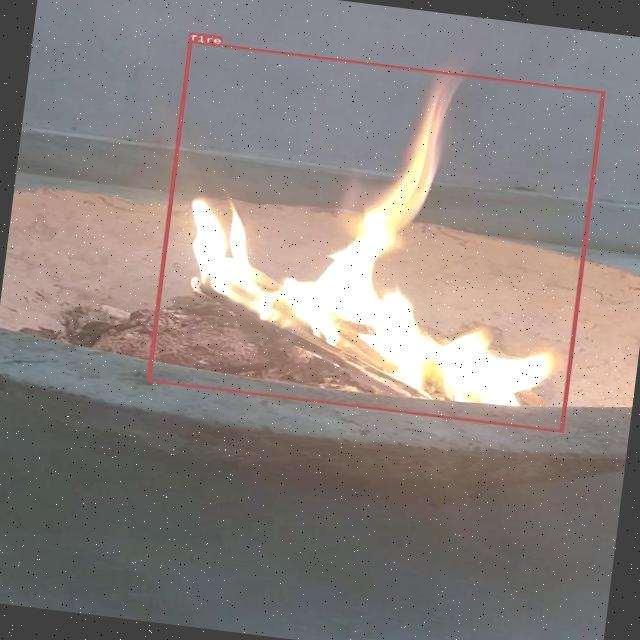fire: (146, 39, 604, 432)
